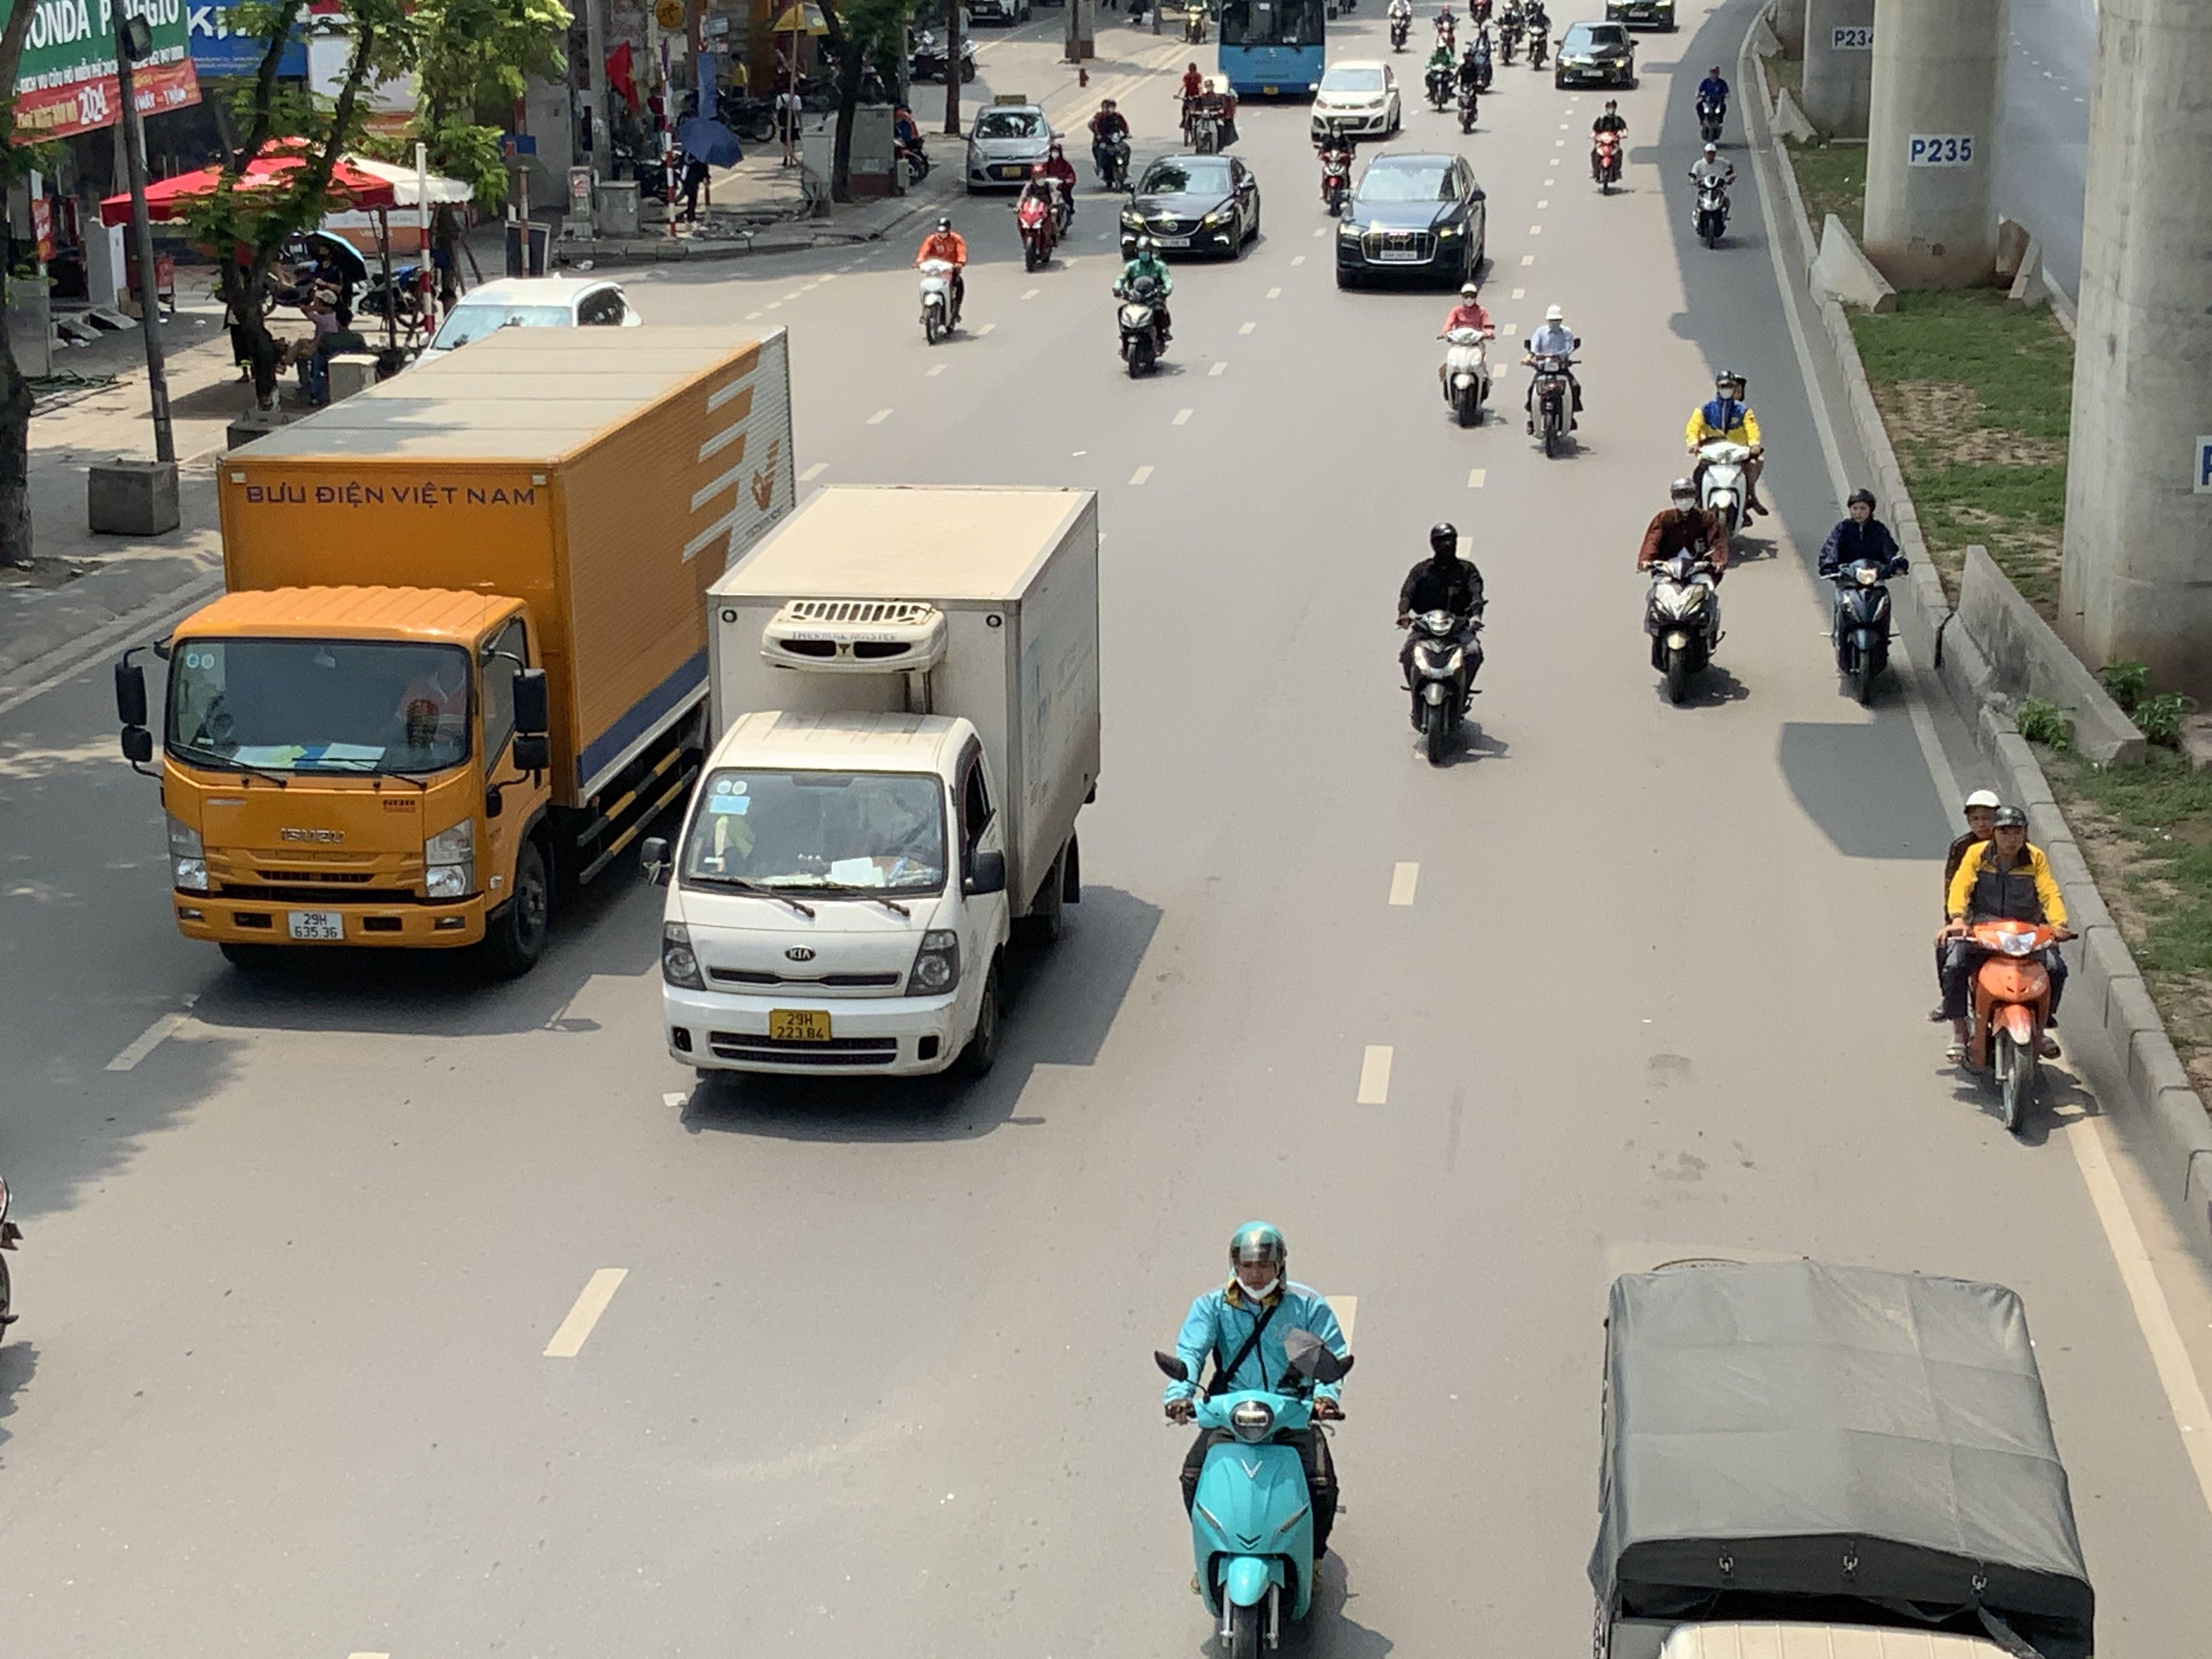BSV: (772, 1011, 833, 1042), (289, 911, 343, 939)
bus: (1211, 0, 1332, 99)
car: (1334, 152, 1493, 291), (1116, 152, 1264, 261), (963, 99, 1055, 192), (1310, 59, 1402, 141), (1554, 19, 1641, 89)
motorbike: (1157, 1220, 1353, 1659), (1932, 789, 2076, 1143), (1397, 523, 1487, 767), (1639, 476, 1730, 706), (1818, 486, 1905, 711), (1686, 368, 1768, 552), (1522, 303, 1587, 458), (1437, 282, 1498, 427), (1113, 235, 1174, 380), (914, 213, 968, 343), (1688, 136, 1737, 247), (1015, 169, 1061, 272), (1089, 96, 1132, 192), (1315, 120, 1357, 216), (1588, 96, 1629, 193), (1040, 138, 1078, 237), (892, 105, 932, 192), (1202, 68, 1240, 155), (1181, 66, 1219, 153), (1453, 44, 1486, 134), (1423, 35, 1460, 112), (1695, 64, 1730, 143), (1524, 2, 1552, 68), (1496, 0, 1524, 66), (1386, 0, 1414, 52), (1430, 5, 1458, 51)
truck: (115, 312, 801, 981), (644, 481, 1106, 1091)
